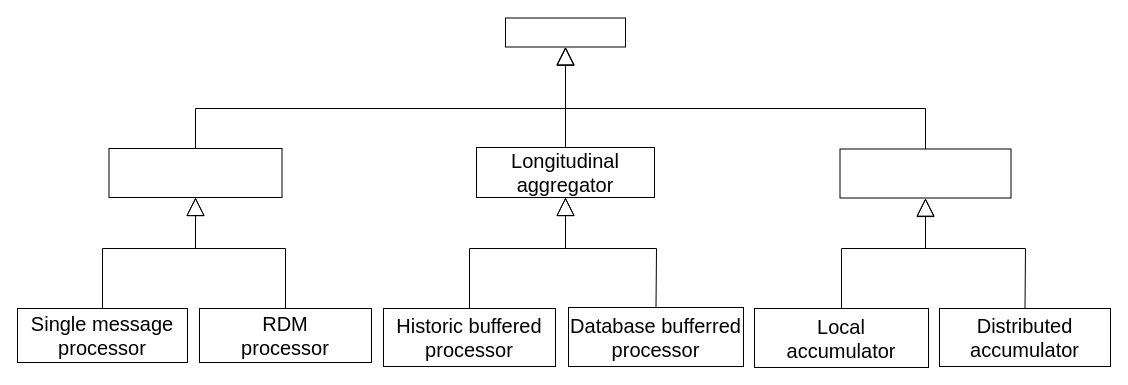
The diagram is 1128 pixels wide and 385 high, and some of its shapes have lost their labels. Each missing label, with the centre of its shape:
"Latteral aggregator" belongs at point 925,173.
"Processor" belongs at point 565,32.
"Transformer" belongs at point 195,173.
